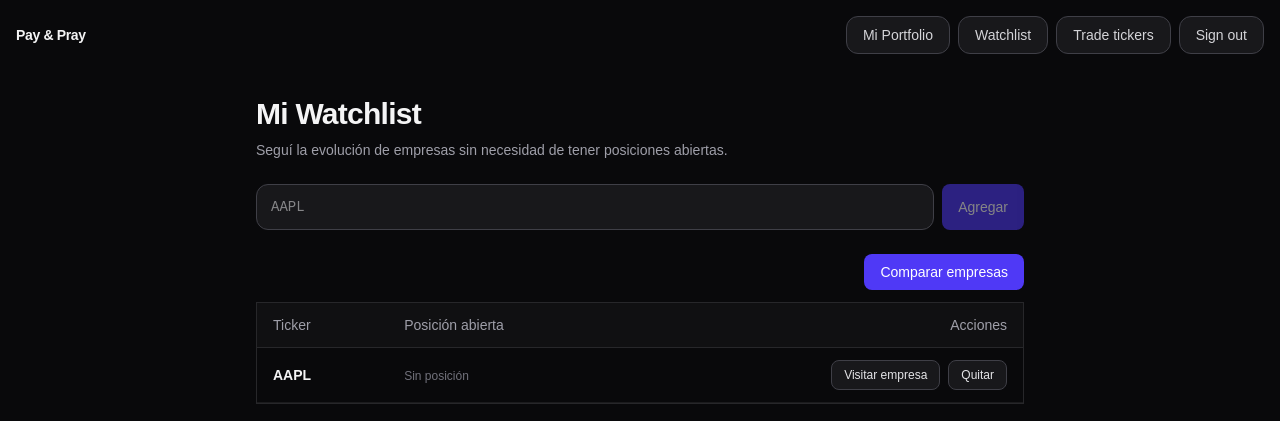
it: Watchlist page › quita una empresa de la watchlist
The width and height of the screenshot is (1280, 421).
Click the button "Quitar": click(978, 375) [948,360,1007,390]
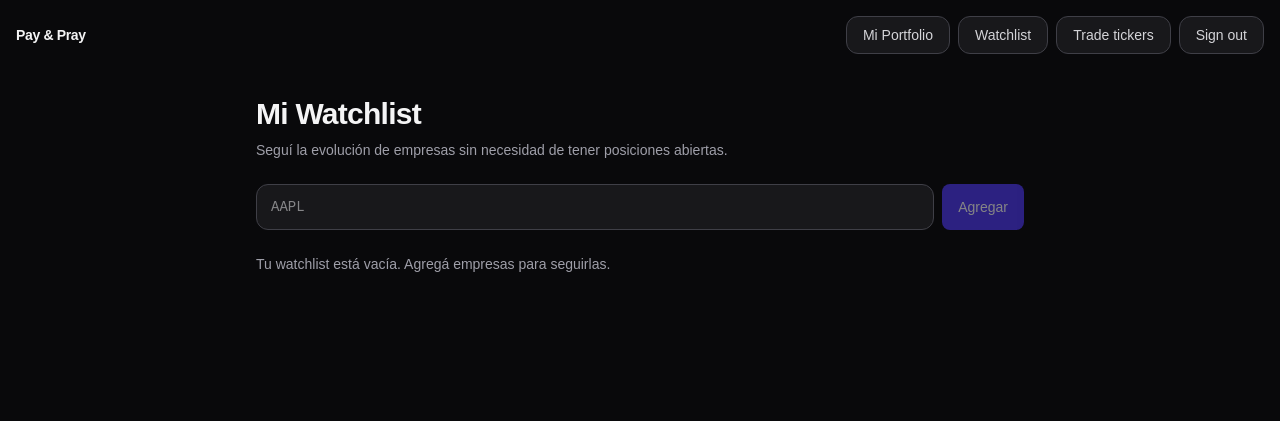
Expected: the text "Tu watchlist está vacía." is shown, [256,256,610,272]
